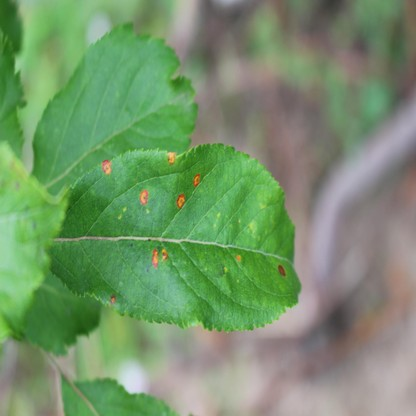rust: (140, 189, 149, 204), (167, 149, 176, 163), (277, 262, 286, 276), (102, 160, 111, 173), (152, 249, 158, 267), (178, 193, 185, 207), (161, 247, 167, 262), (193, 173, 200, 185), (109, 294, 116, 305), (236, 252, 241, 260)
